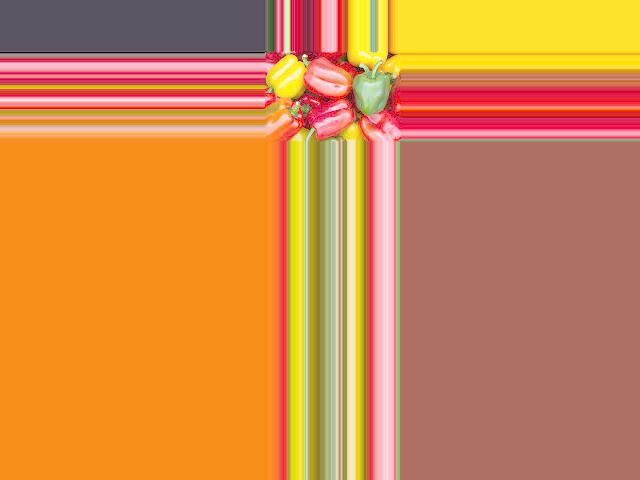bell_pepper: (266, 52, 308, 101)
